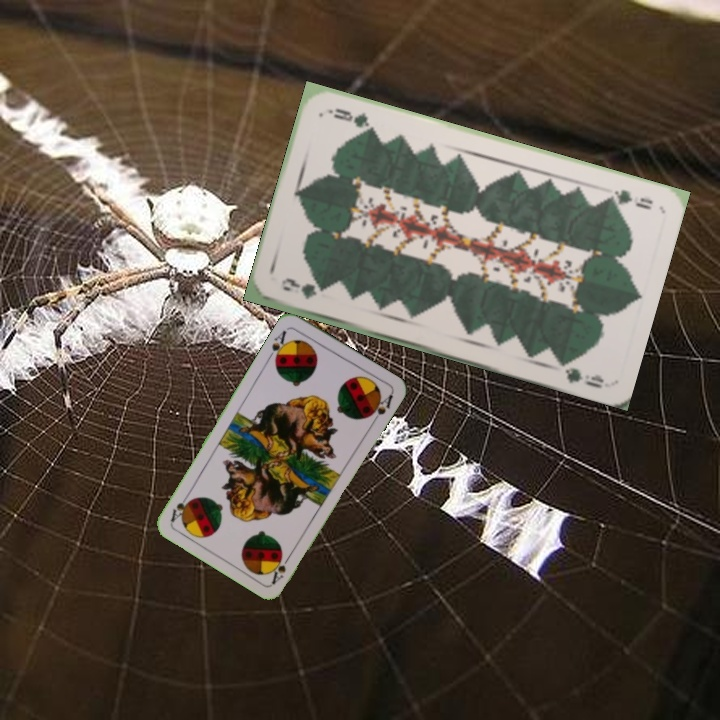G9: (600, 185, 655, 213), (277, 275, 319, 302)
SA: (264, 326, 292, 365), (267, 549, 294, 586)
